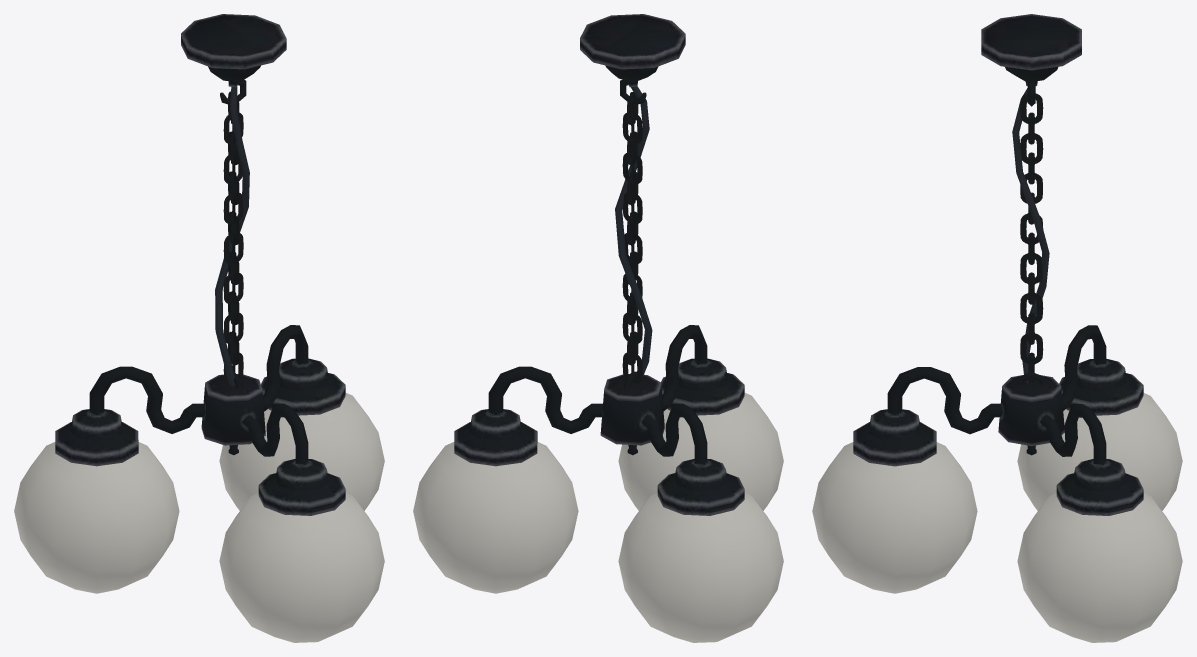
3 views of the same model, side by side, from view 1: azimuth 30°, elevation 25°; view 2: azimuth 150°, elevation 25°; view 3: azimuth 270°, elevation 25° (orthographic).
Size of the model in its own units: 9.1 by 13.72 by 8.38.
Materials: 1 (1 with a texture image).
